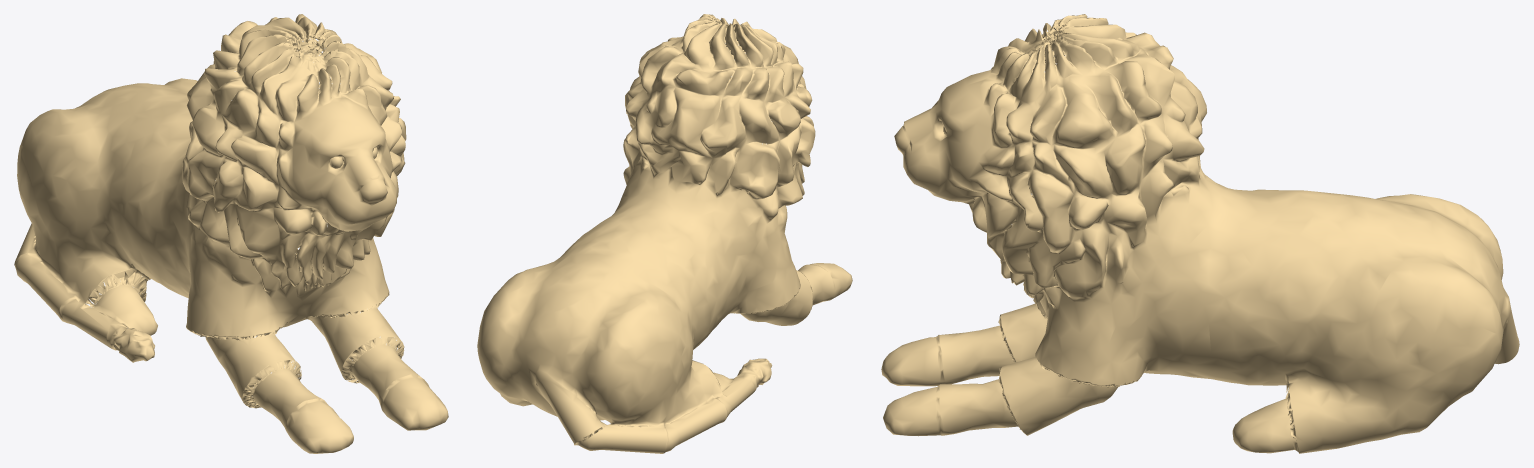
The model's file is lion_lod1.glb.
3 views of the same model, side by side, from view 1: azimuth 30°, elevation 25°; view 2: azimuth 150°, elevation 25°; view 3: azimuth 270°, elevation 25° (orthographic). The views are drawn at different scales.
Visible parts, largest first — view 1: lion; view 2: lion; view 3: lion.
Part boxes in pixels (x1=…): lion: x1=14, y1=14, x2=448, y2=453; lion: x1=477, y1=14, x2=852, y2=453; lion: x1=881, y1=14, x2=1519, y2=453.
Bounding box in the file's own units: 1.77 × 2.59 × 3.97.
